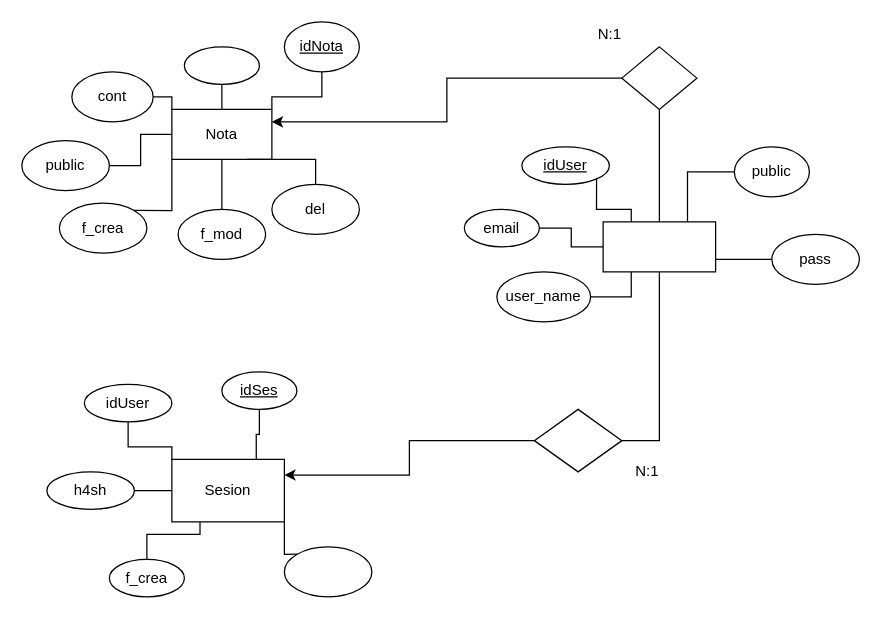
The diagram is 881 pixels wide and 619 high, and some of its shapes have lost their labels. The centre of each missing label's shape, as x and y in pixels:
"crea" goes at [659,77].
"f_ren" goes at [327,571].
"genera" goes at [577,440].
"nameN" goes at [221,65].
"Usuario" goes at [659,246].
